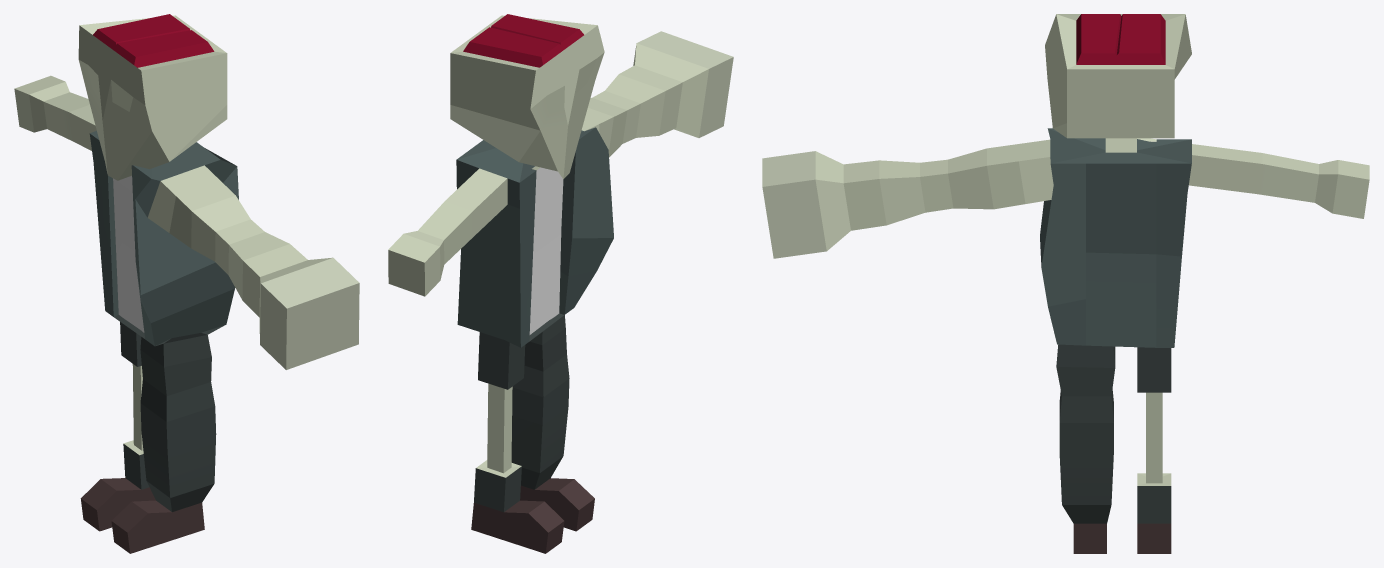
The model's file is Zombie deform.fbx.
3 views of the same model, side by side, from view 1: azimuth 30°, elevation 25°; view 2: azimuth 150°, elevation 25°; view 3: azimuth 270°, elevation 25° (orthographic). The views are drawn at different scales.
Visible parts, largest first — view 1: Zombie_deform; view 2: Zombie_deform; view 3: Zombie_deform.
Boxes of the visible parts, left/top/right/bottom form: Zombie_deform: left=14, top=14, right=359, bottom=553; Zombie_deform: left=388, top=14, right=733, bottom=553; Zombie_deform: left=762, top=14, right=1369, bottom=553.
Bounding box in the file's own units: 0.1839 × 0.8376 × 0.8984.
Materials: 1 (1 with a texture image).
